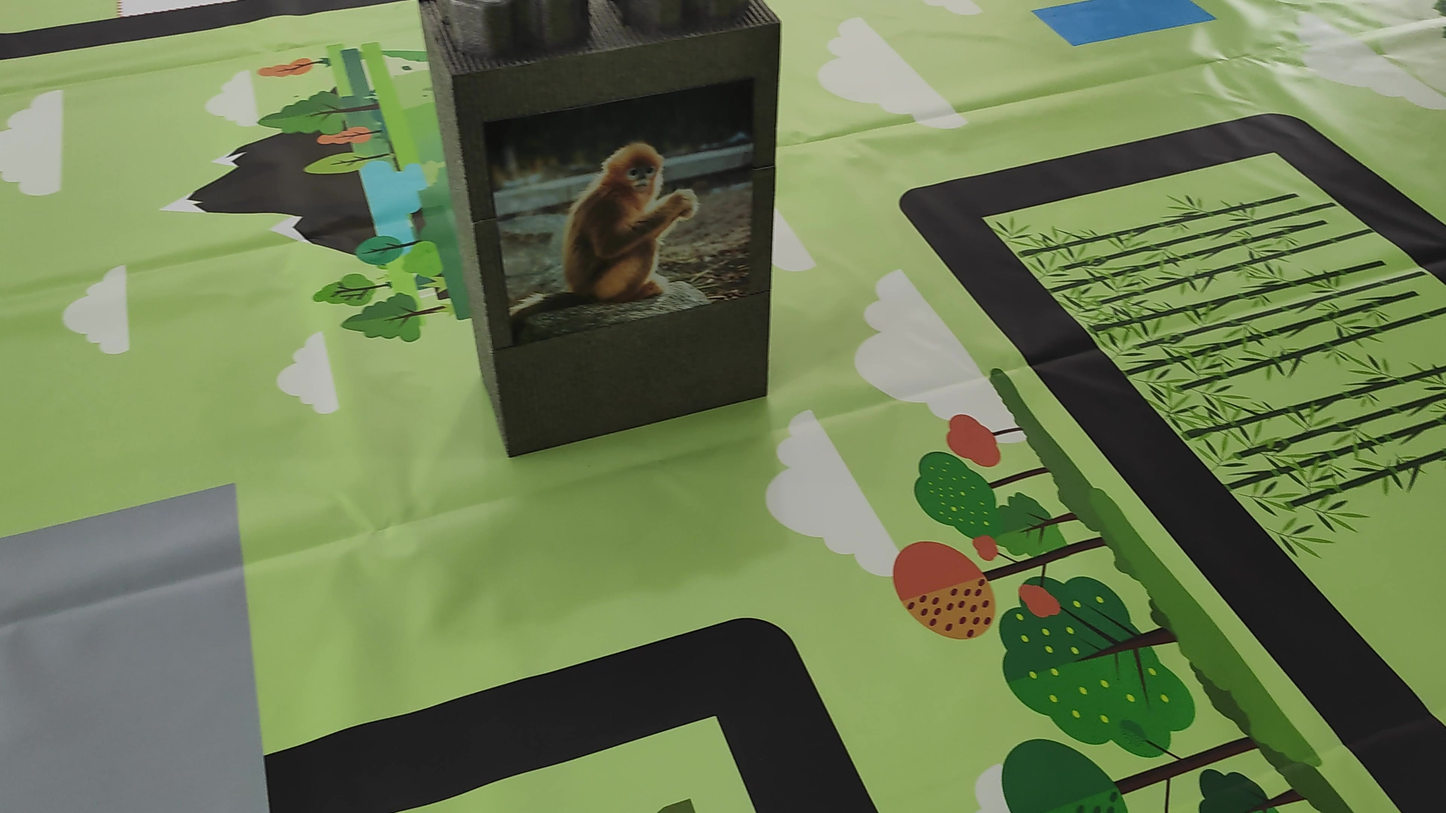monkey: (502, 128, 710, 340)
